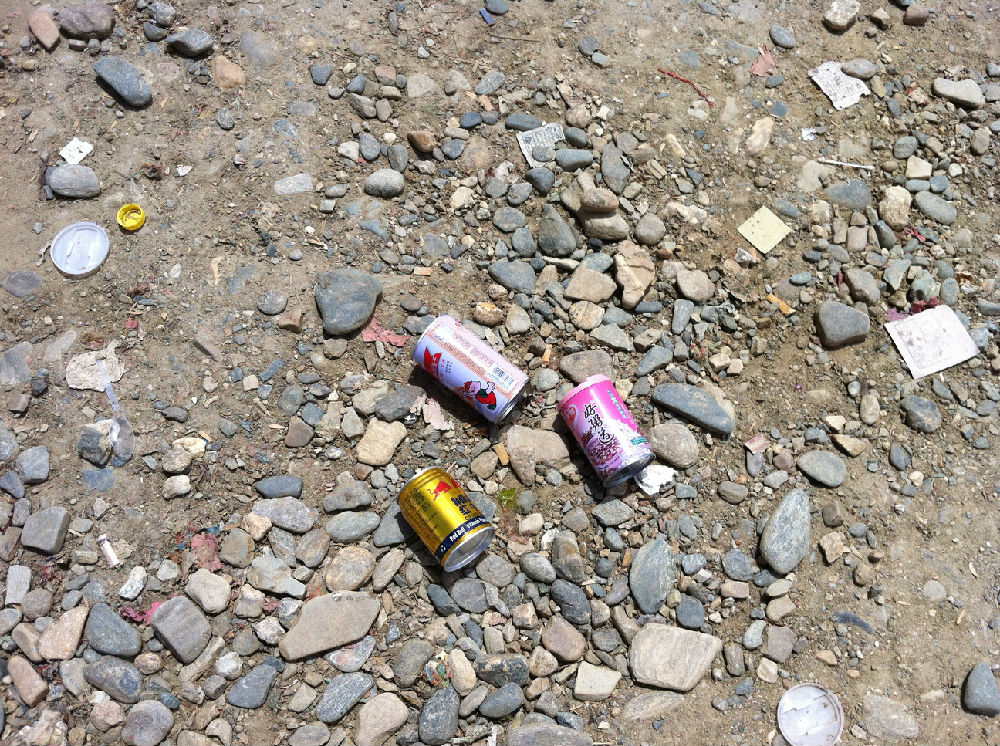garbage: (392, 289, 549, 436), (548, 357, 692, 511), (390, 458, 526, 582), (876, 293, 1000, 404), (44, 183, 177, 272), (759, 671, 872, 746), (793, 46, 888, 123), (505, 108, 603, 182), (730, 190, 810, 256)
